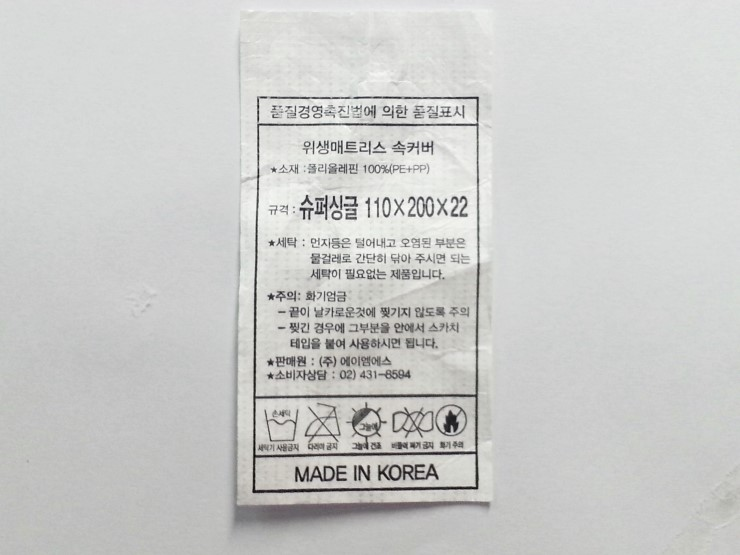do_not_iron: (304, 402, 341, 440)
